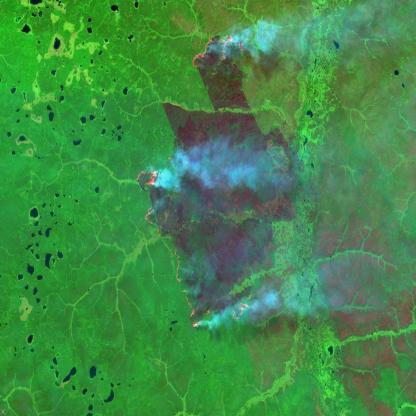fire: (131, 148, 259, 336), (187, 27, 248, 75)
